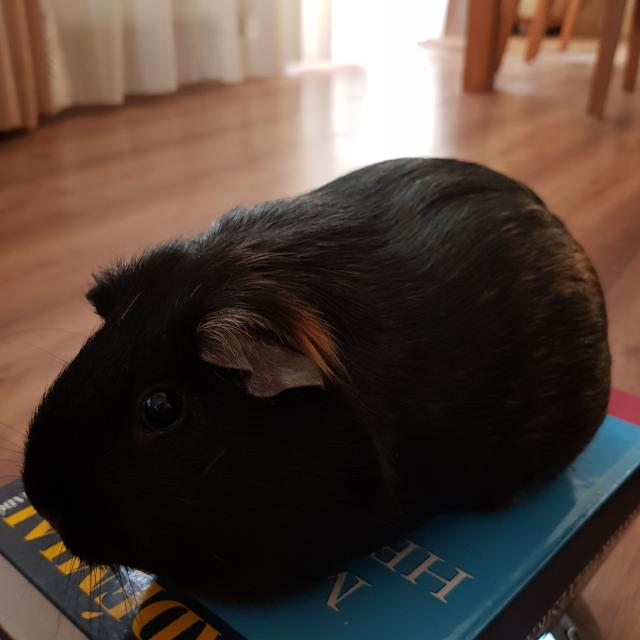guinea pig: (21, 154, 612, 612)
